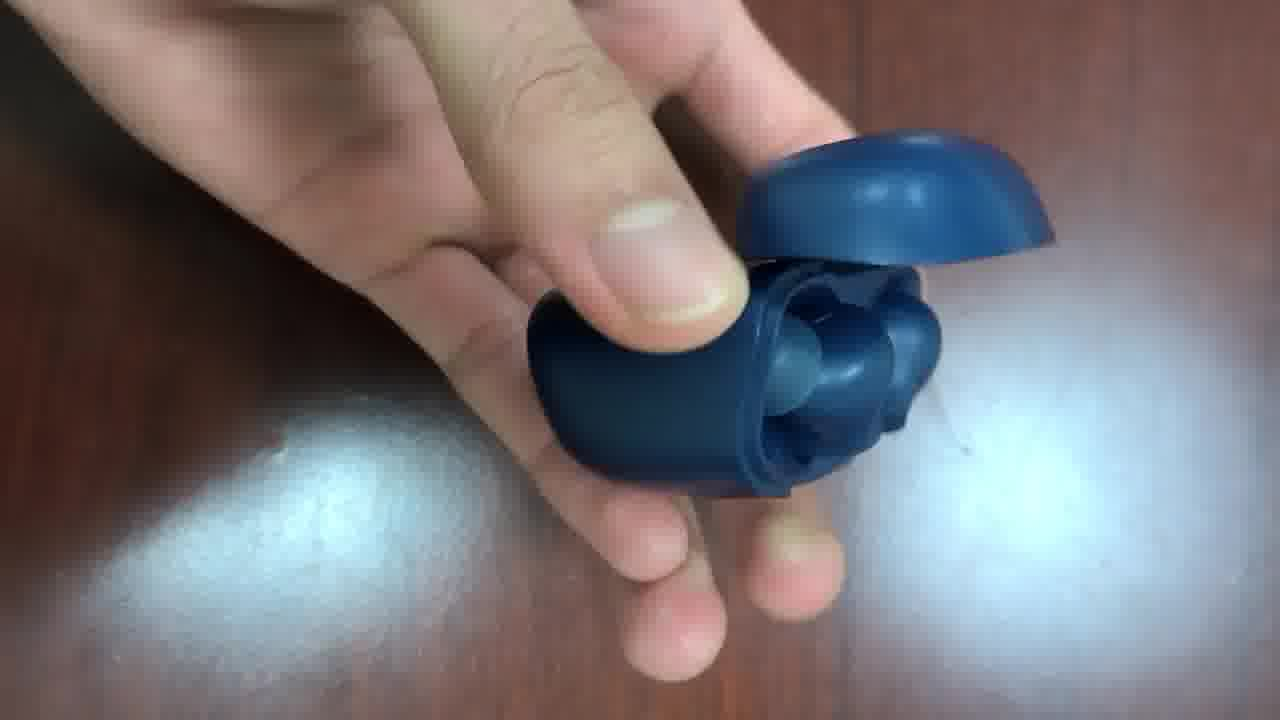Case: (530, 128, 1052, 493)
Earbud: (749, 311, 908, 465)
